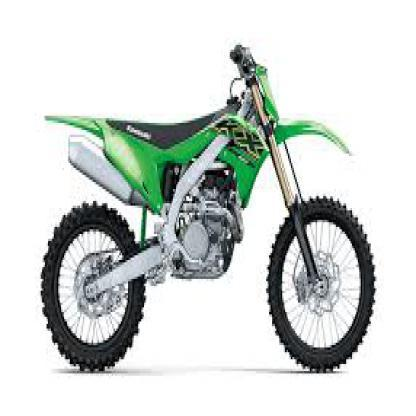Motorcycle: (32, 37, 381, 383)
